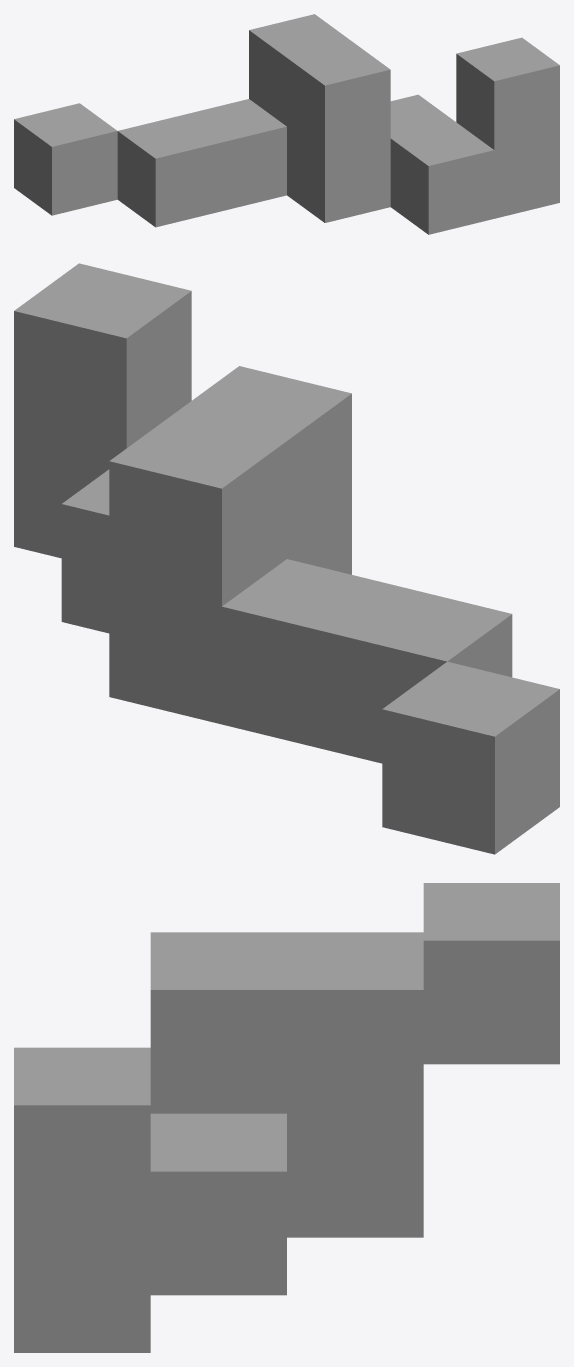
The model's file is obstacle-right behind.obj.
The picture shows the model from 3 angles, top to bottom: view 1: azimuth 30°, elevation 25°; view 2: azimuth 150°, elevation 25°; view 3: azimuth 270°, elevation 25°; orthographic projection. The views are drawn at different scales.
Bounding box in the file's own units: 1.2 × 0.4 × 0.8.
Materials: 1 (1 with a texture image).
